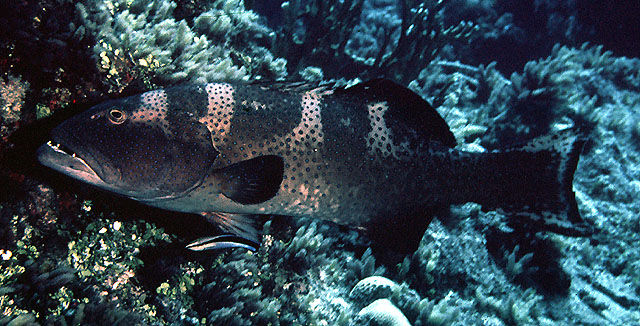fish: (37, 78, 586, 256)
